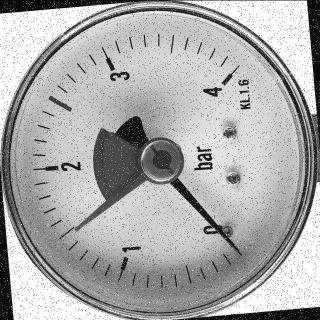gauge: (1, 0, 320, 320), (136, 135, 184, 185), (217, 232, 254, 264), (208, 68, 242, 96), (70, 222, 86, 236), (232, 244, 246, 259)
